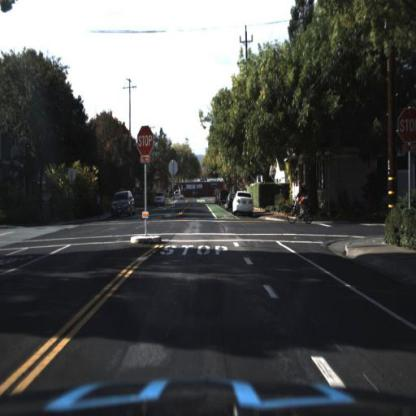biker: (286, 180, 313, 226)
car: (111, 190, 136, 220), (234, 193, 256, 214), (151, 188, 167, 208), (153, 191, 168, 211), (218, 186, 227, 207), (225, 192, 234, 213)
pedestrian: (98, 192, 106, 217)
